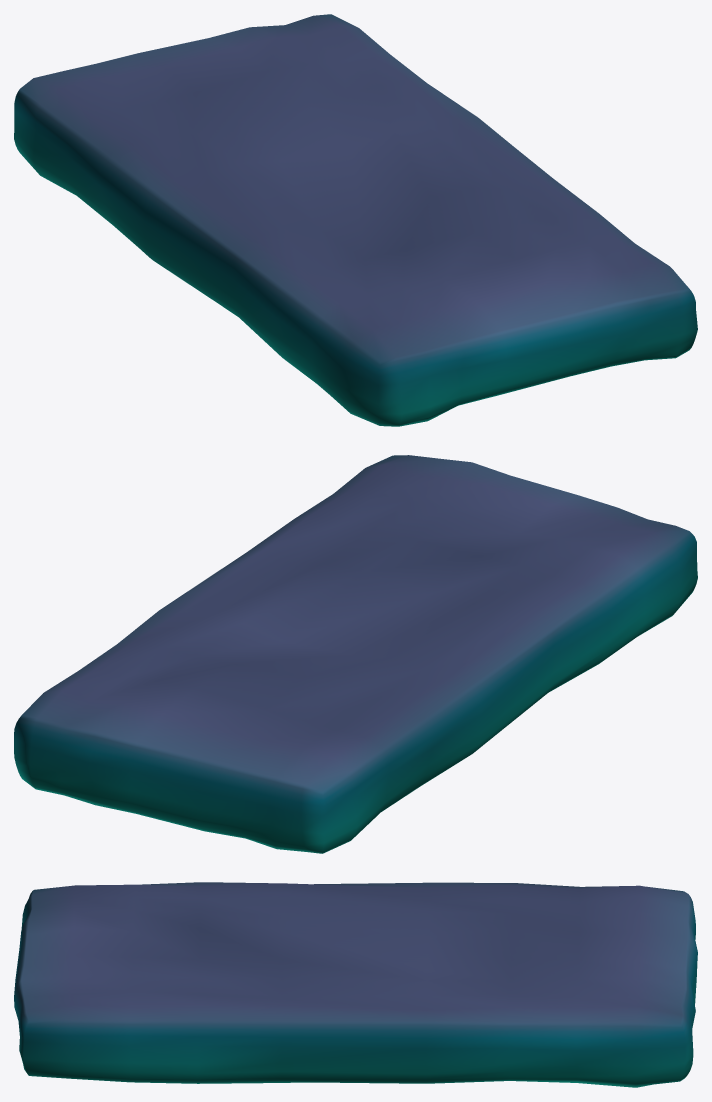
The model's file is causeway_slab_flat.glb.
3 renders of one model, top to bottom at view 1: azimuth 30°, elevation 25°; view 2: azimuth 150°, elevation 25°; view 3: azimuth 270°, elevation 25°, orthographic. The views are drawn at different scales.
Parts seen in each view (by area): view 1: causeway_slab_flat; view 2: causeway_slab_flat; view 3: causeway_slab_flat.
Part boxes in pixels (<box>): causeway_slab_flat: <box>14,14,697,426</box>; causeway_slab_flat: <box>14,455,697,853</box>; causeway_slab_flat: <box>14,882,697,1087</box>.
Size of what is drawn, in the model's own units: 1.25 by 0.3367 by 2.44.
